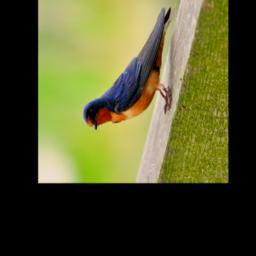Swallow: (78, 3, 182, 135)
